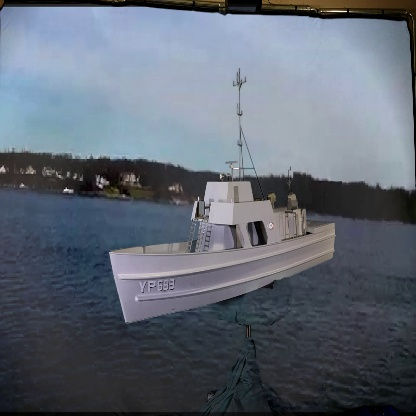YP689: (99, 71, 343, 324)
